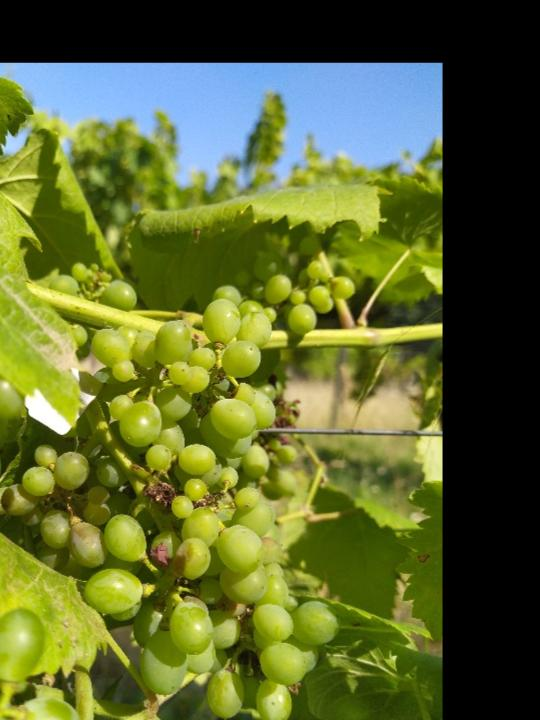grape: (0, 296, 342, 720), (236, 226, 360, 335)
